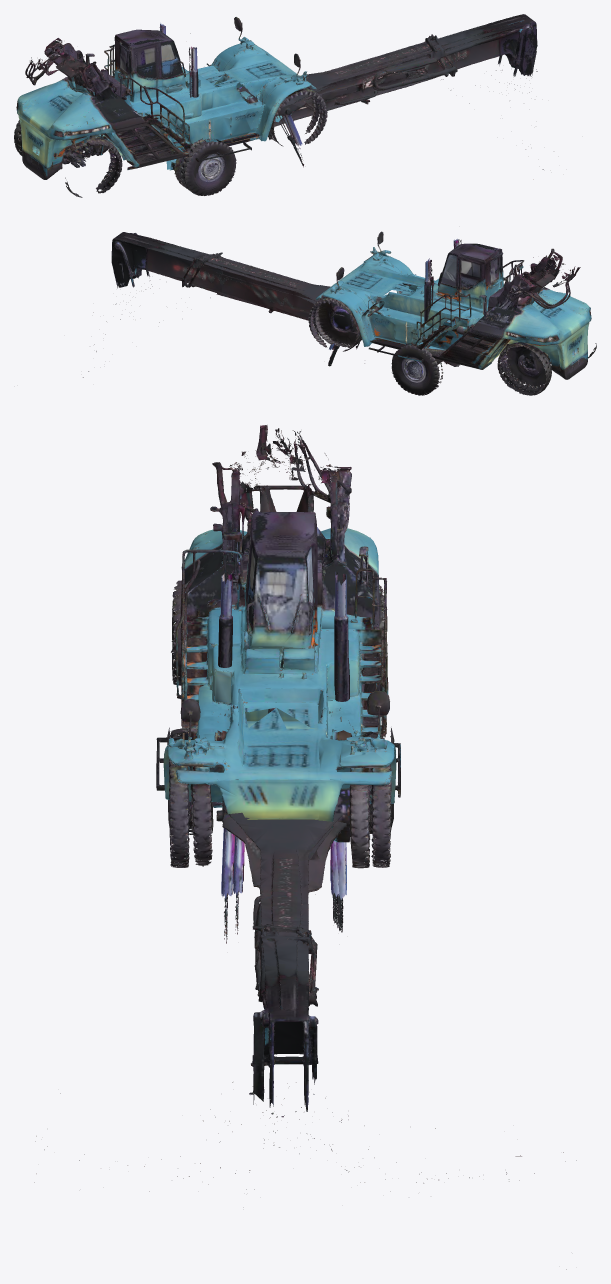
File: stacker.glb
3 renders of one model, top to bottom at view 1: azimuth 30°, elevation 25°; view 2: azimuth 150°, elevation 25°; view 3: azimuth 270°, elevation 25°, orthographic. The views are drawn at different scales.
Visible parts, largest first — view 1: STK_BODY, STK_INNER, STK_BOOM, STK_WHEEL_1, STK_WHEEL_3, STK_CYL; view 2: STK_BODY, STK_INNER, STK_BOOM, STK_WHEEL_0, STK_CYL; view 3: STK_BODY, STK_INNER, STK_BOOM, STK_CYL.
Part boxes in pixels (box(x1,y1,x2,y2)): STK_BODY: box(14, 17, 327, 197); STK_INNER: box(269, 14, 543, 179); STK_BOOM: box(173, 45, 427, 167); STK_WHEEL_1: box(166, 138, 236, 195); STK_WHEEL_3: box(179, 138, 236, 192); STK_CYL: box(159, 23, 198, 97); STK_BODY: box(308, 231, 596, 395); STK_INNER: box(83, 232, 337, 377); STK_BOOM: box(216, 259, 459, 367); STK_WHEEL_0: box(391, 343, 443, 395); STK_CYL: box(406, 239, 461, 370); STK_BODY: box(156, 425, 400, 868); STK_INNER: box(34, 828, 576, 1269); STK_BOOM: box(216, 708, 346, 975); STK_CYL: box(218, 569, 349, 704).
Size of the model in its own units: 15.68 by 5.7 by 7.51.
Materials: 1 (1 with a texture image).
